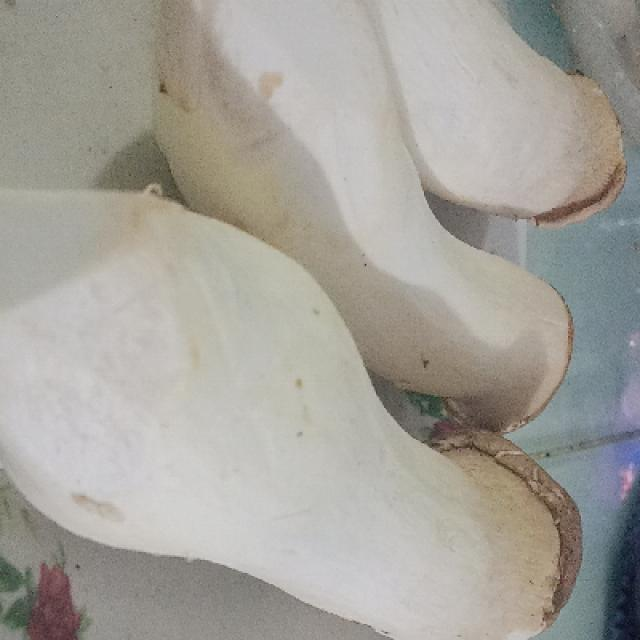Pleurotus eryngii: (0, 185, 584, 640), (147, 0, 626, 435)
